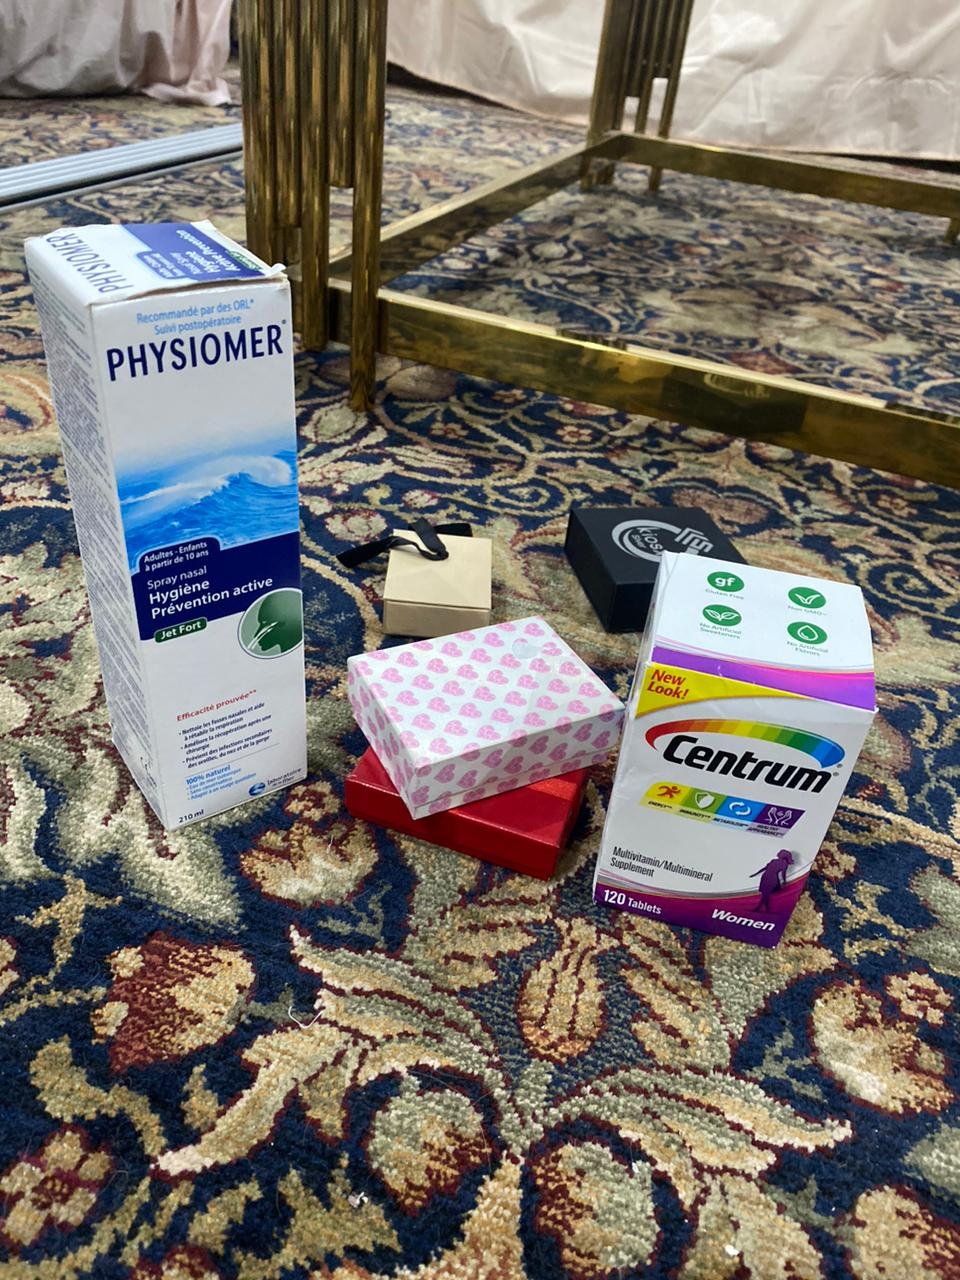Black Box: (565, 502, 756, 624)
Centrum: (591, 548, 883, 955)
Physiomer: (20, 222, 318, 840)
Pink Box: (339, 615, 621, 819)
Red Box: (346, 744, 580, 881)
Yellow Box: (380, 515, 499, 641)
